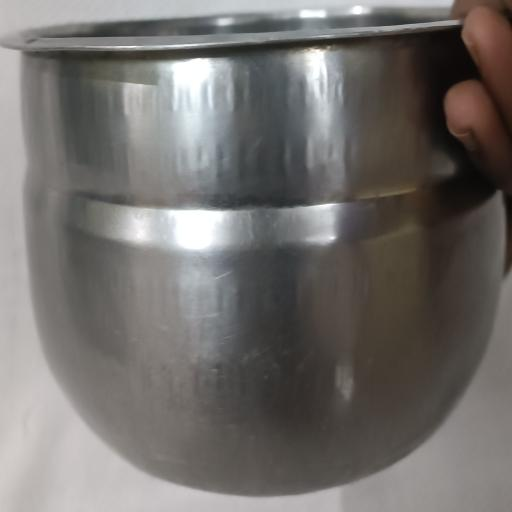vessel: (0, 0, 503, 487)
